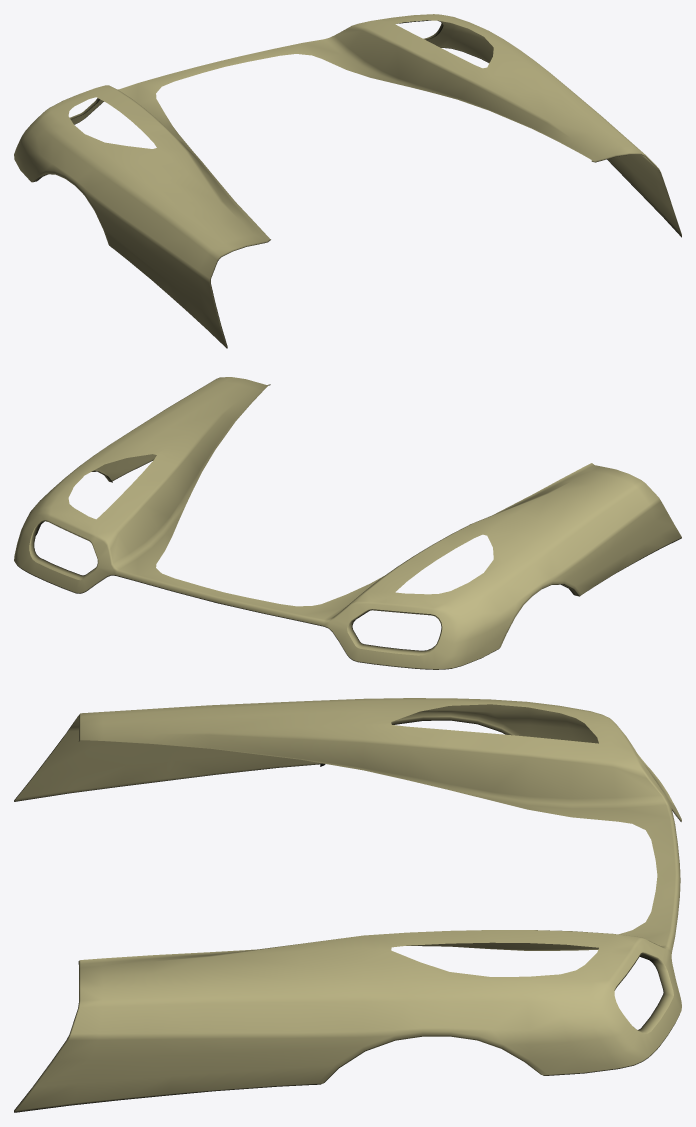
Rendered from Agera_Boot_Duco.fbx.
3 renders of one model, top to bottom at view 1: azimuth 30°, elevation 25°; view 2: azimuth 150°, elevation 25°; view 3: azimuth 270°, elevation 25°, orthographic. The views are drawn at different scales.
Visible parts, largest first — view 1: Agera_Boot_Duco; view 2: Agera_Boot_Duco; view 3: Agera_Boot_Duco.
Boxes of the visible parts, x1,y1,x2,y2 form: Agera_Boot_Duco: [14, 14, 681, 348]; Agera_Boot_Duco: [14, 377, 681, 669]; Agera_Boot_Duco: [14, 698, 681, 1112].
Size of the model in its own units: 199 by 34.96 by 174.
